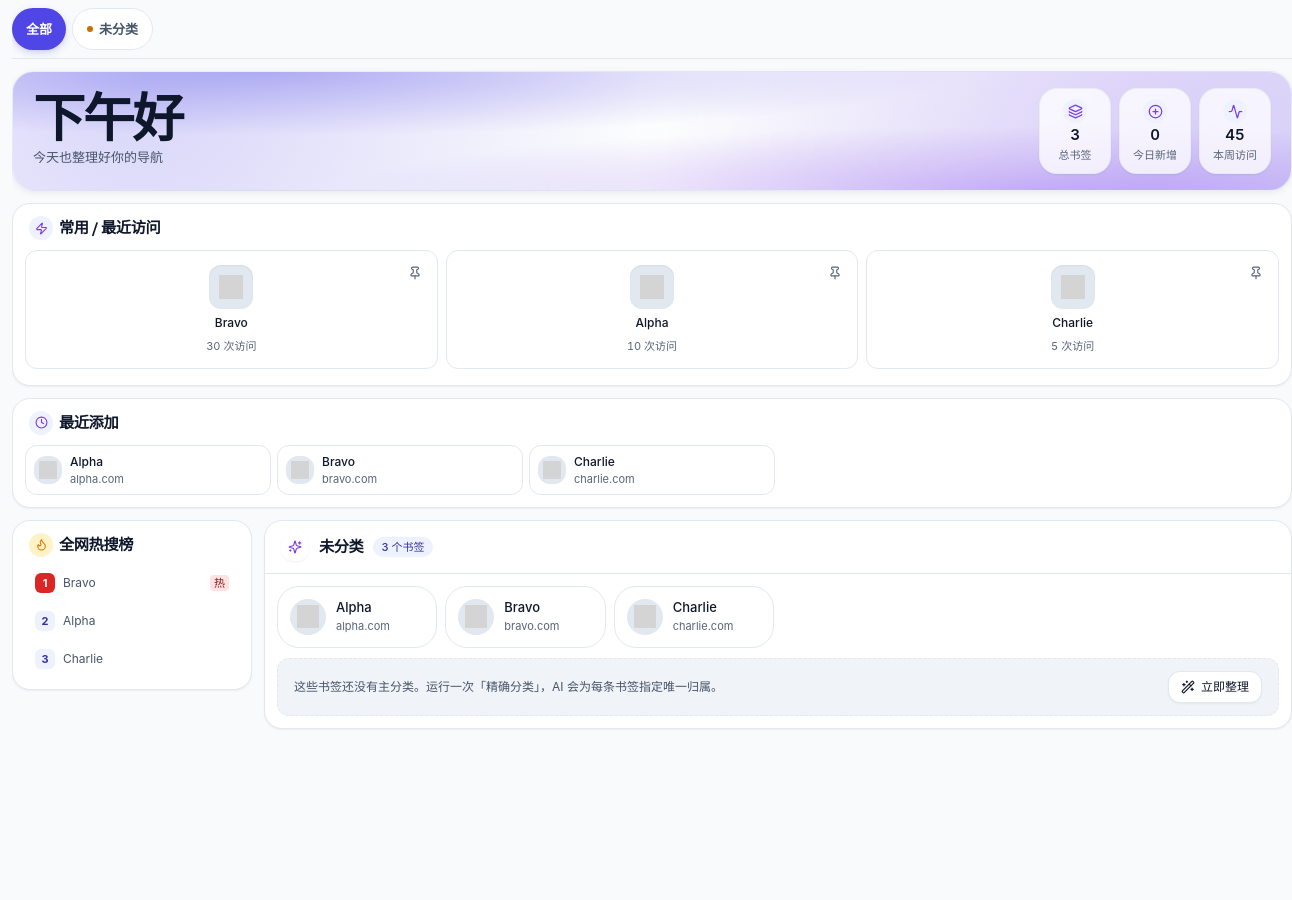
CategoryView · 常用区固定 (pickQuickAccess / load·savePinnedIds) › 点击固定后该固定项置顶并写入 localStorage
// Pin the lowest-visited item.
Click the button named "固定 Charlie": [1256, 273] box [1240,257,1272,289]
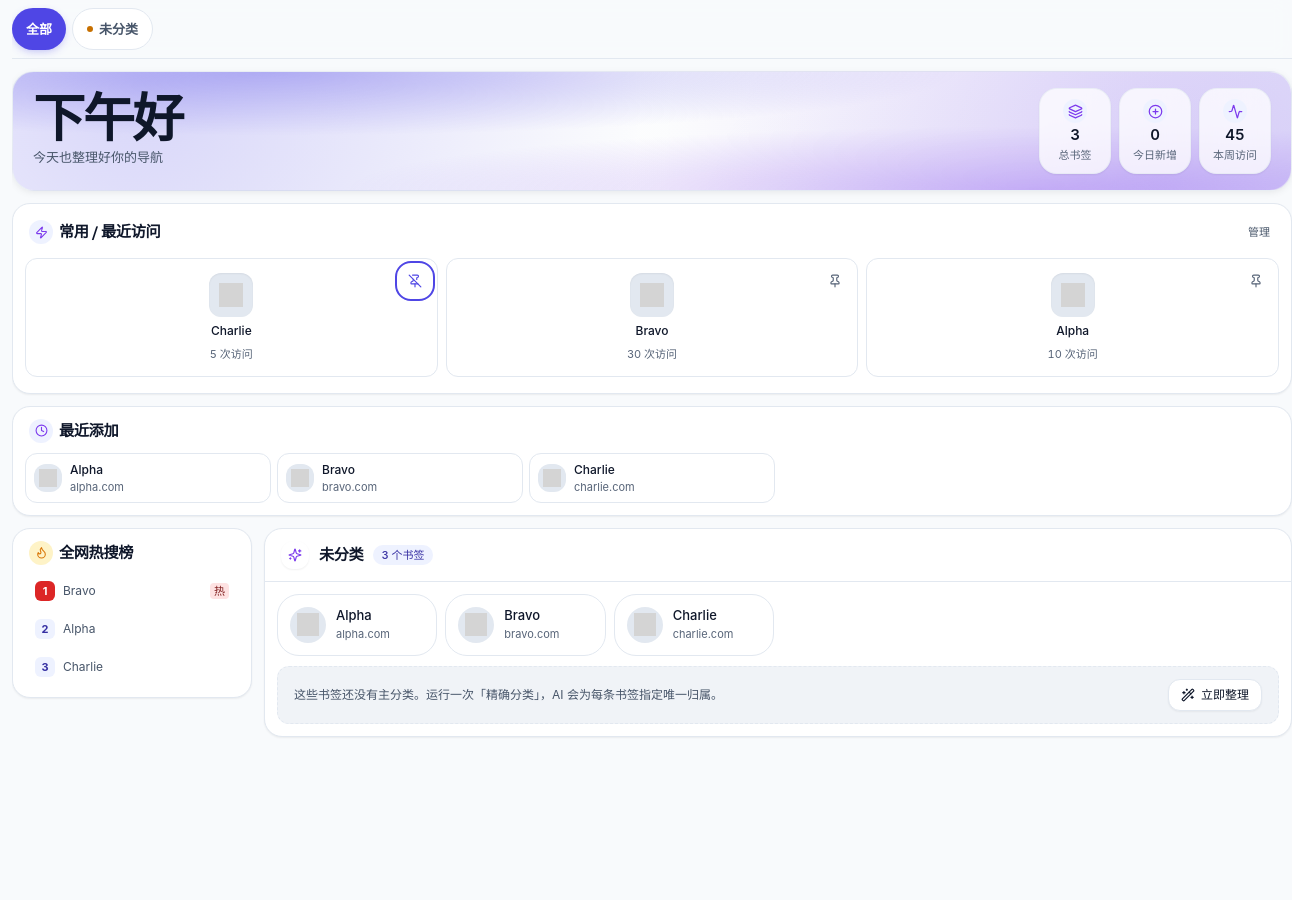
Expected: the link "Charlie 5 次访问" is shown, [209,273,253,362]
Now the button named "取消固定 Charlie" is shown, box [399,265,431,297]
